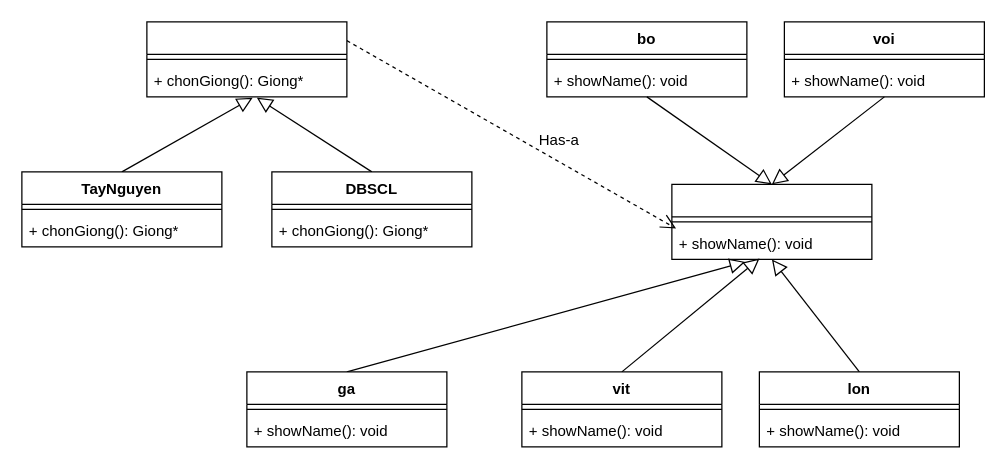
Some shapes in this 1006 by 473 pixel diagram are drawn without their labels. Here are the shapes that lost their labels. From the top down, the box of each, then its label:
(146, 21, 347, 97): GiongVatNuoiFactory
(671, 183, 872, 259): Giong
